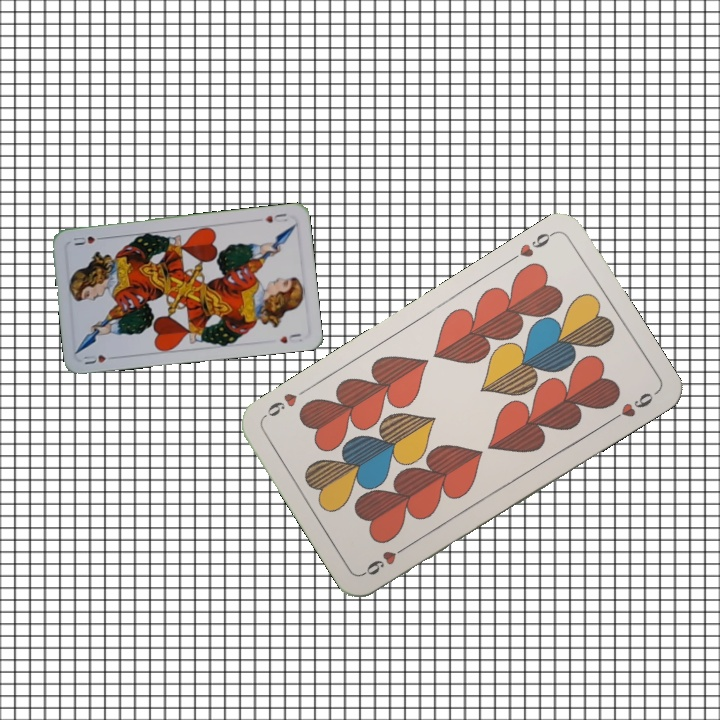H9: (359, 540, 412, 578), (505, 227, 558, 265)
HU: (79, 351, 119, 367), (261, 209, 290, 225)
